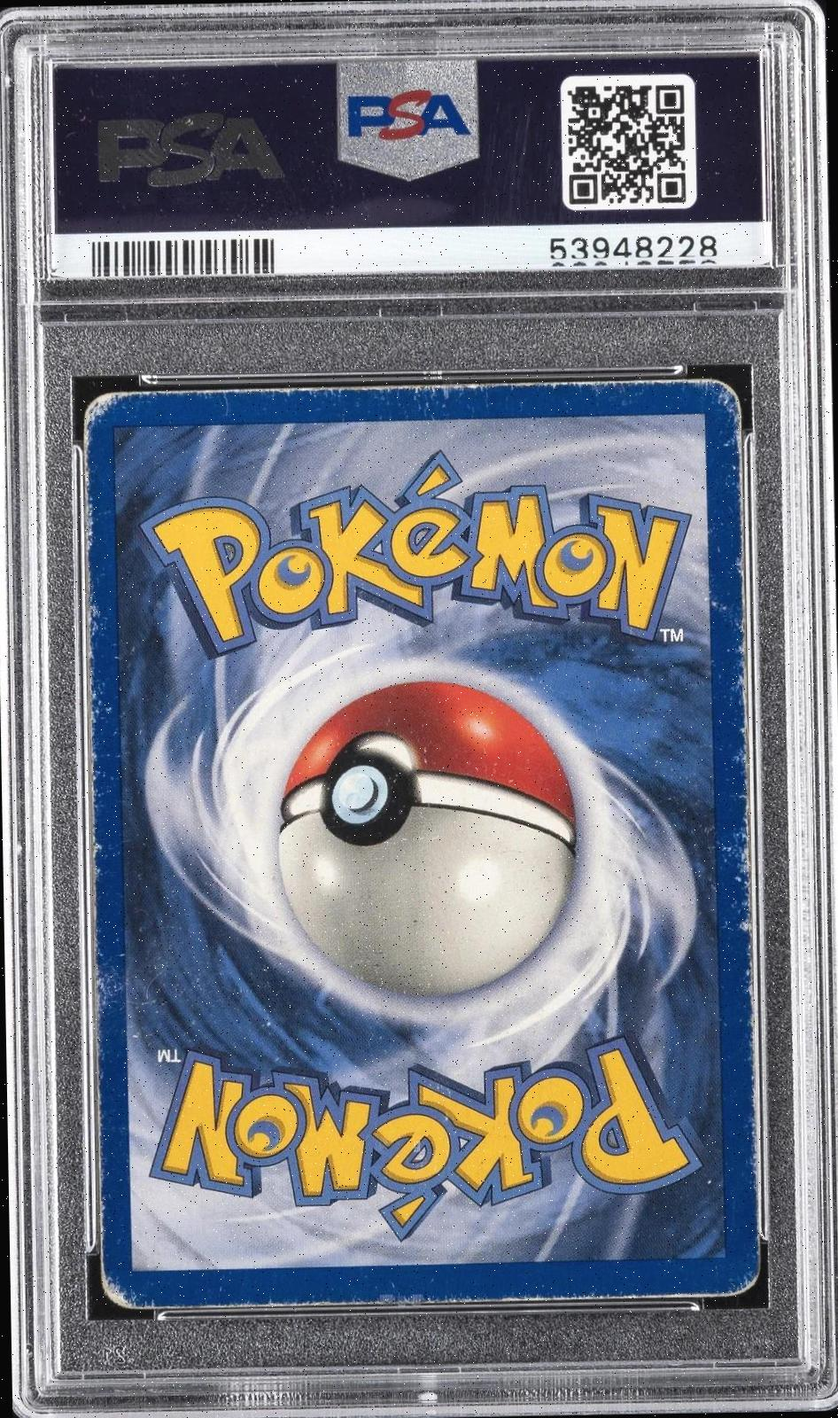card-2UtV: (82, 378, 761, 1310)
